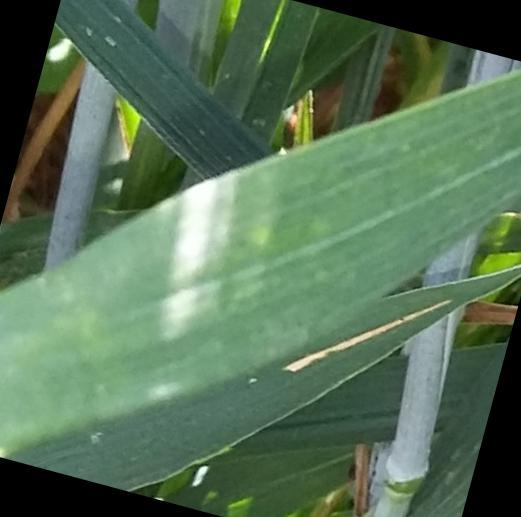Wheat: (72, 2, 274, 185), (7, 298, 168, 460), (177, 224, 291, 400), (297, 155, 430, 261), (46, 70, 114, 262), (443, 113, 520, 199), (303, 290, 375, 360)
